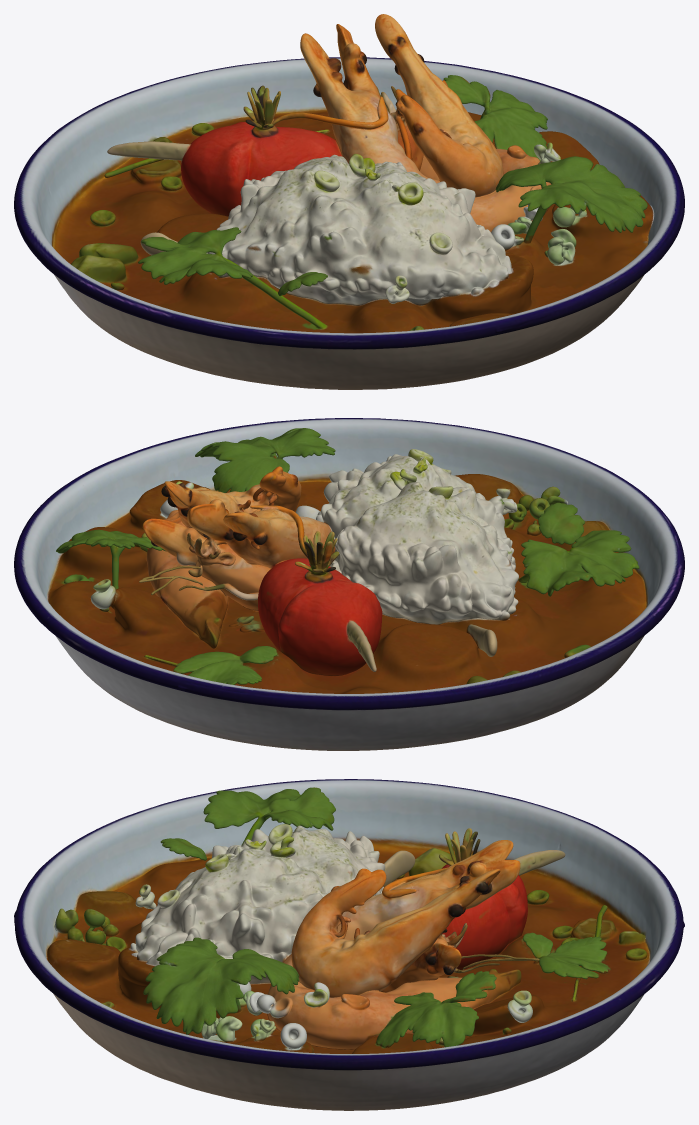
The model's file is pasta.glb.
3 renders of one model, top to bottom at view 1: azimuth 30°, elevation 25°; view 2: azimuth 150°, elevation 25°; view 3: azimuth 270°, elevation 25°, orthographic.
Parts seen in each view (by area): view 1: tripo_node_f3439790-5327-4897-95e0-c139554bc9b4; view 2: tripo_node_f3439790-5327-4897-95e0-c139554bc9b4; view 3: tripo_node_f3439790-5327-4897-95e0-c139554bc9b4.
Boxes of the visible parts, x1,y1,x2,y2 form: tripo_node_f3439790-5327-4897-95e0-c139554bc9b4: (14, 14, 684, 389); tripo_node_f3439790-5327-4897-95e0-c139554bc9b4: (14, 418, 684, 750); tripo_node_f3439790-5327-4897-95e0-c139554bc9b4: (14, 779, 684, 1110).
Size of the model in its own units: 0.9977 by 0.2936 by 1.
Materials: 1 (1 with a texture image).
